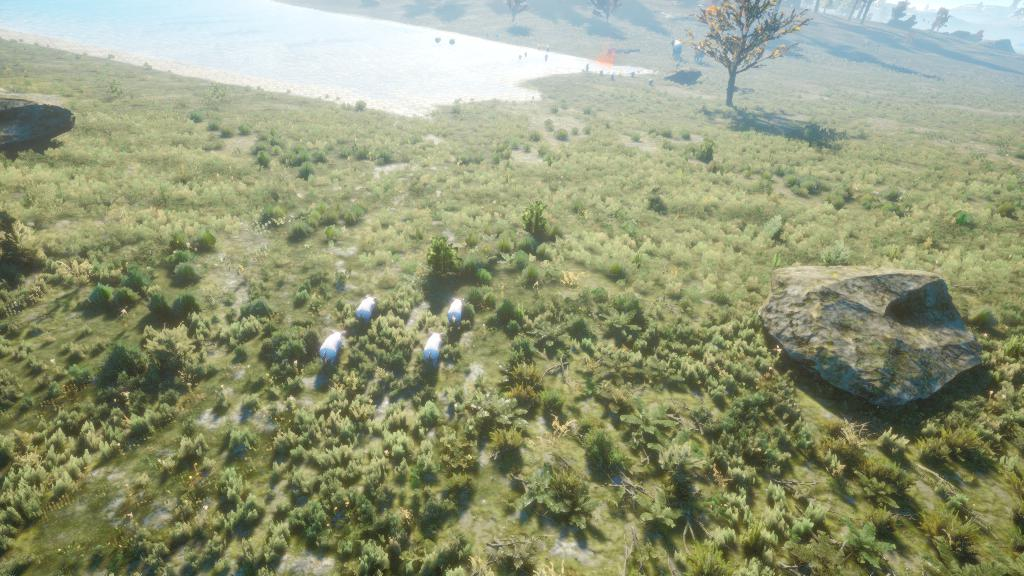elephant: (669, 37, 687, 62)
pig: (314, 326, 351, 372), (421, 329, 448, 372), (351, 292, 380, 327), (445, 293, 469, 328)
